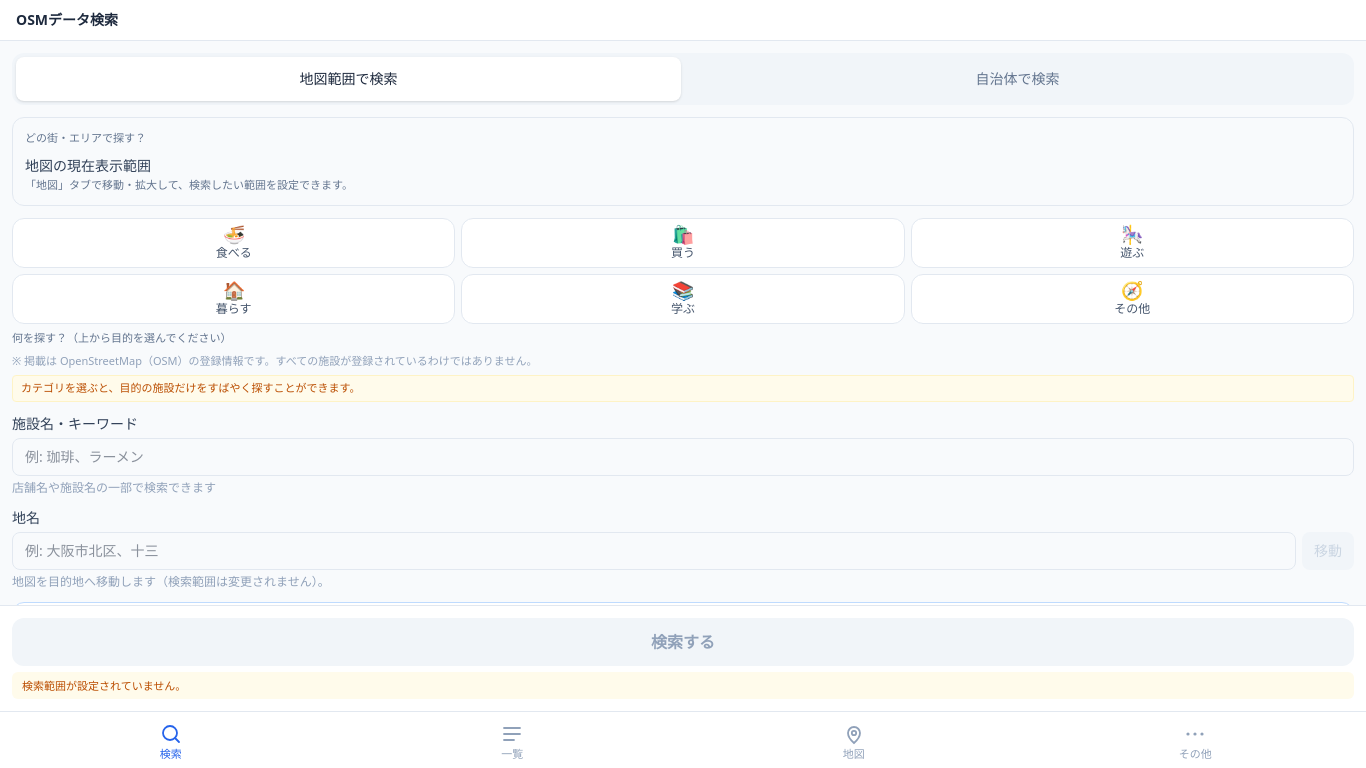
(#59) 施設カード→詳細ボトムシート→地図で見る › カードタップ→詳細表示→「地図で見る」で地図タブに移動する
Click the button "🍜 食べる": [234, 243] box [12,218,455,268]
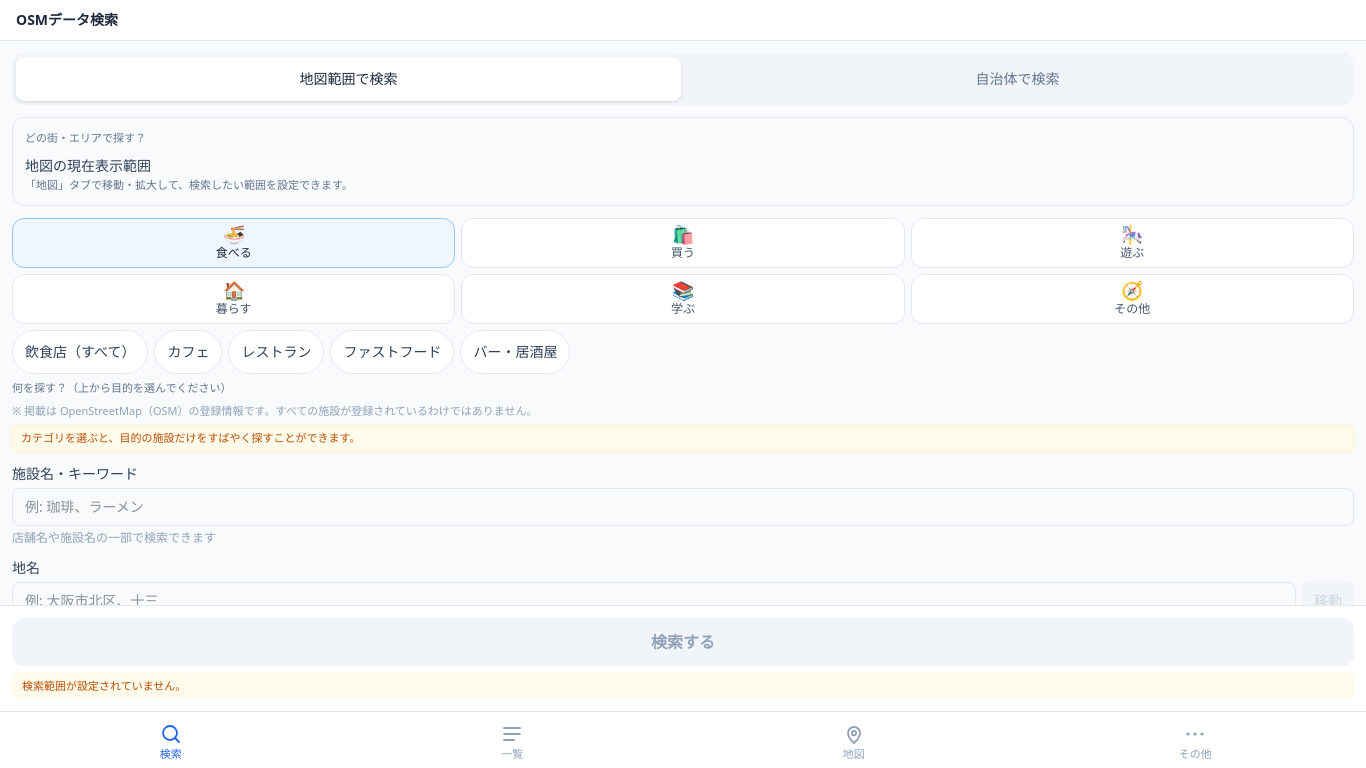
Click the button "カフェ": [188, 352] box [154,330,222,374]
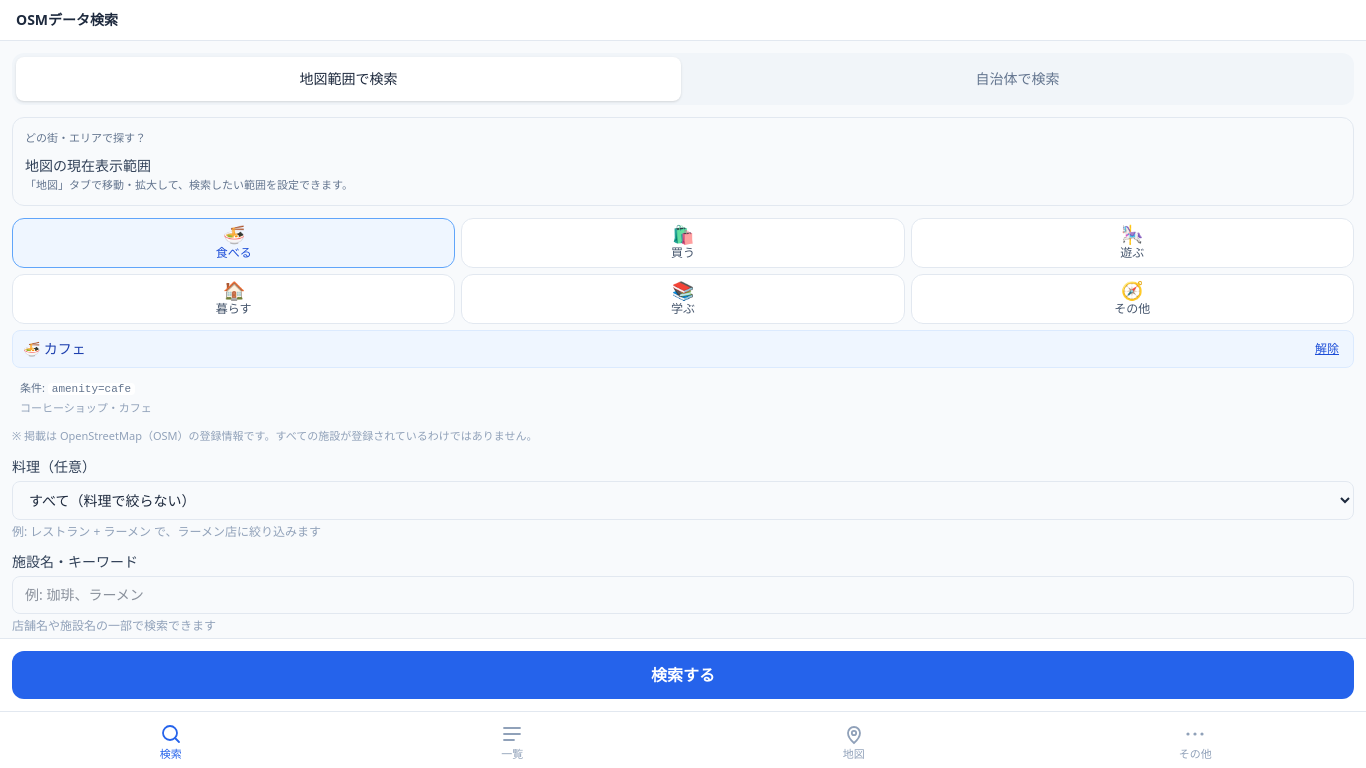
Click the button "検索する": [683, 675] box [12,651,1354,699]
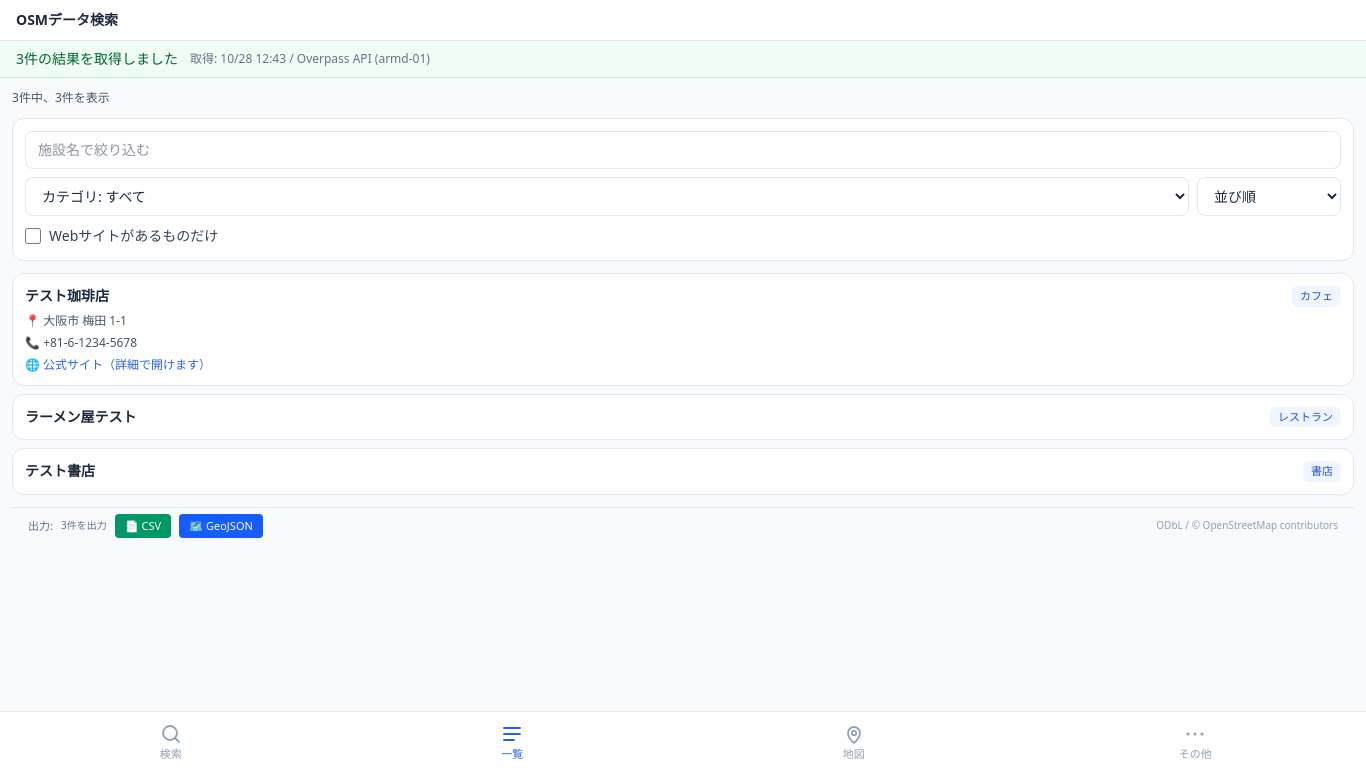
Click the button "テスト珈琲店 カフェ 📍 大阪市 梅田 1-1 📞 +81-6-1234-5678 🌐 公式サイト（詳細で開けます）": [683, 329] box [12,273,1354,386]
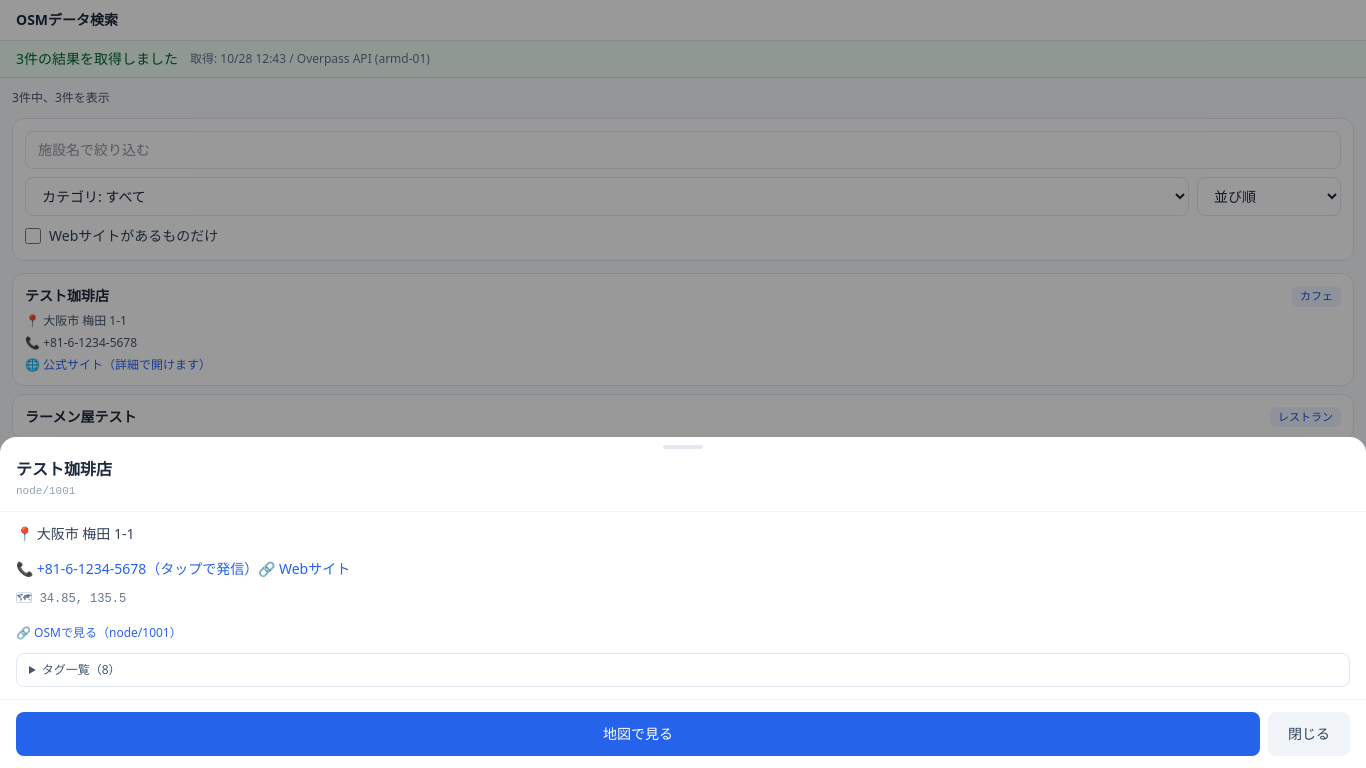
Expected: the dialog named "施設詳細: テスト珈琲店" is shown, [0,436,1365,767]
Expected: the text "📍 大阪市 梅田 1-1" is shown, [16,524,134,543]
Expected: the link "🔗 OSMで見る（node/1001）" is shown, [16,625,182,641]
Click the button "地図で見る": [638, 734] box [16,712,1260,756]
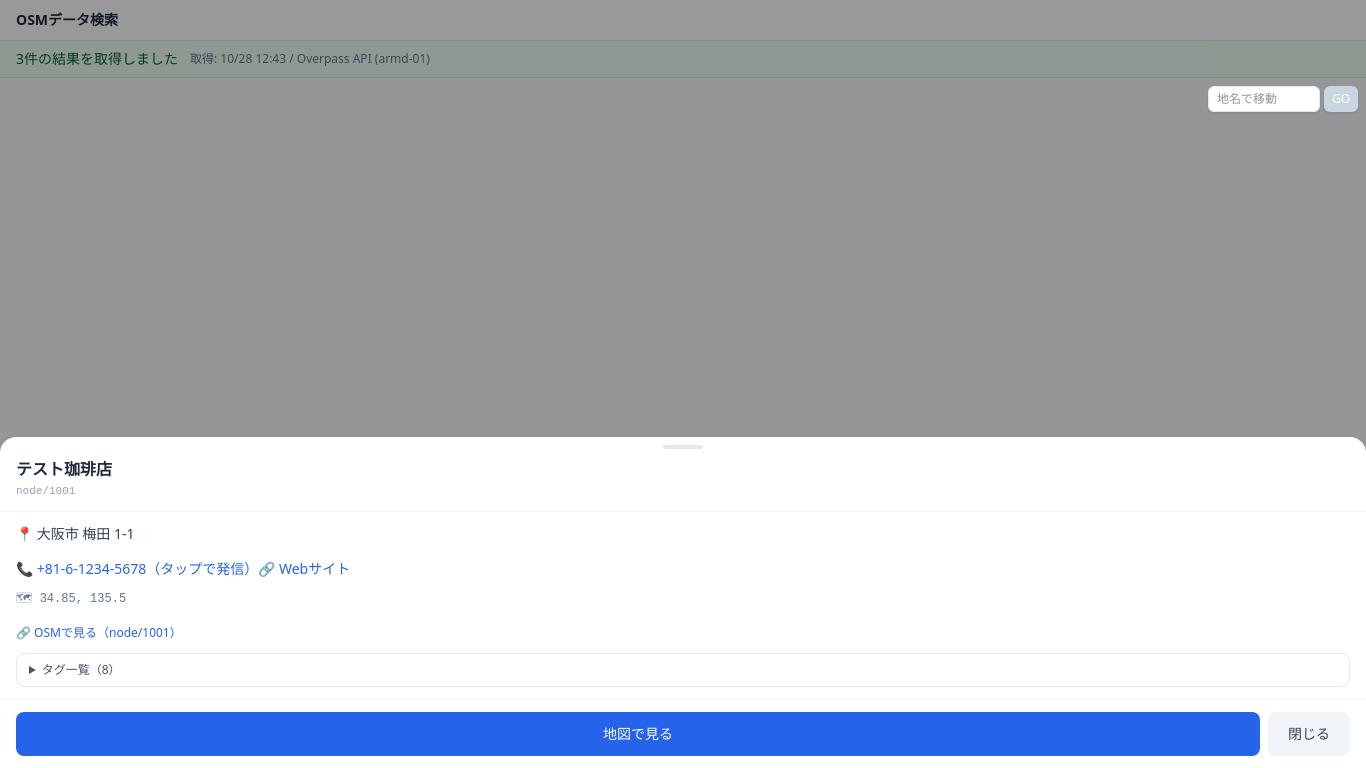
Expected: the dialog is shown, [0,436,1365,767]
Click the button "閉じる": [1309, 734] box [1268,712,1350,756]
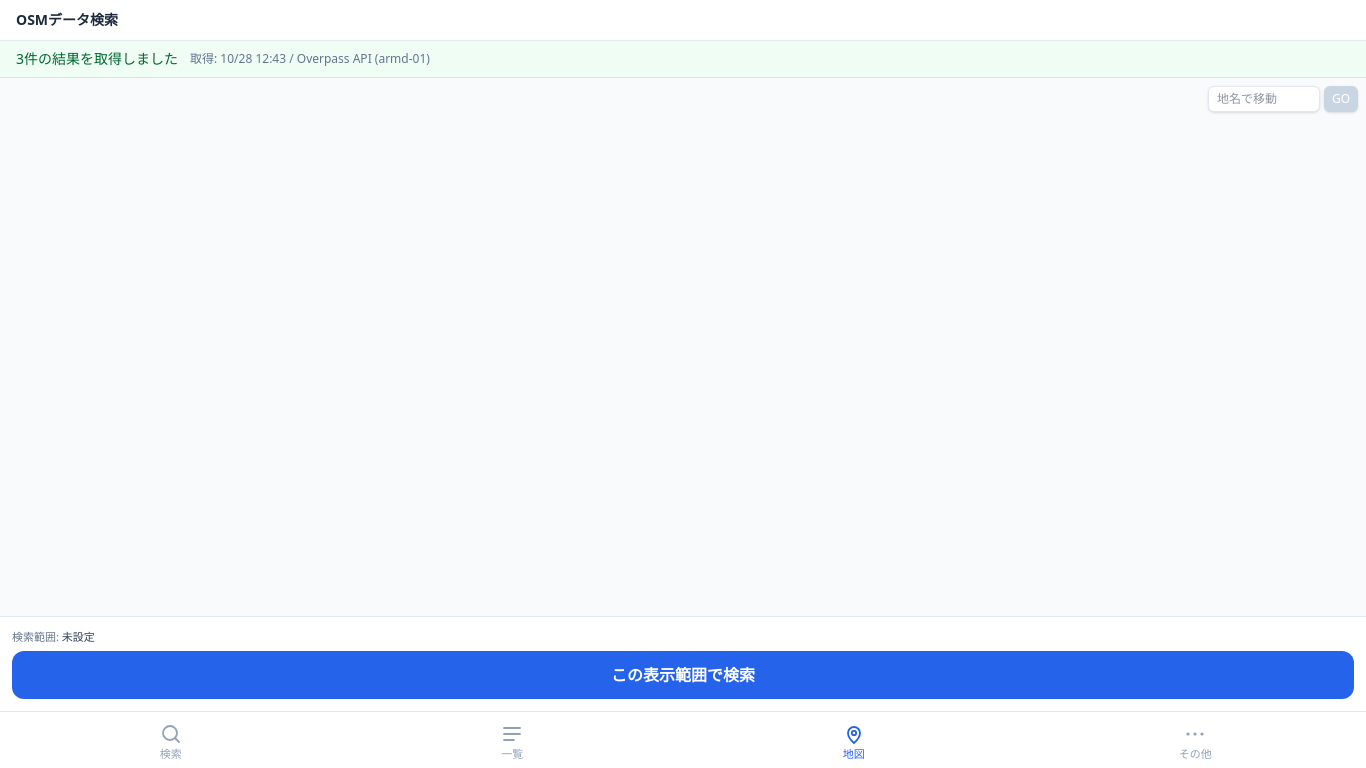
Expected: the dialog is gone
